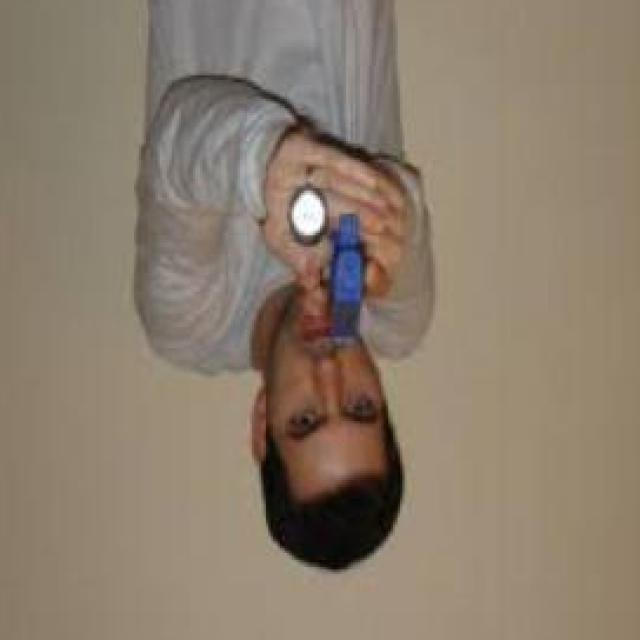pistol: (319, 213, 372, 351)
